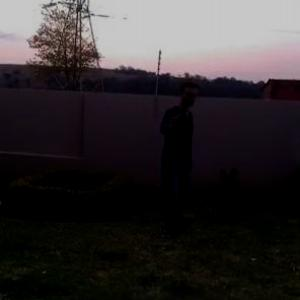takeoff-hand: (160, 102, 188, 128)
